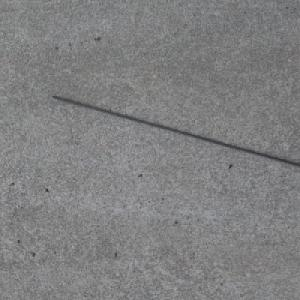LuggagePart: (50, 95, 300, 168)
